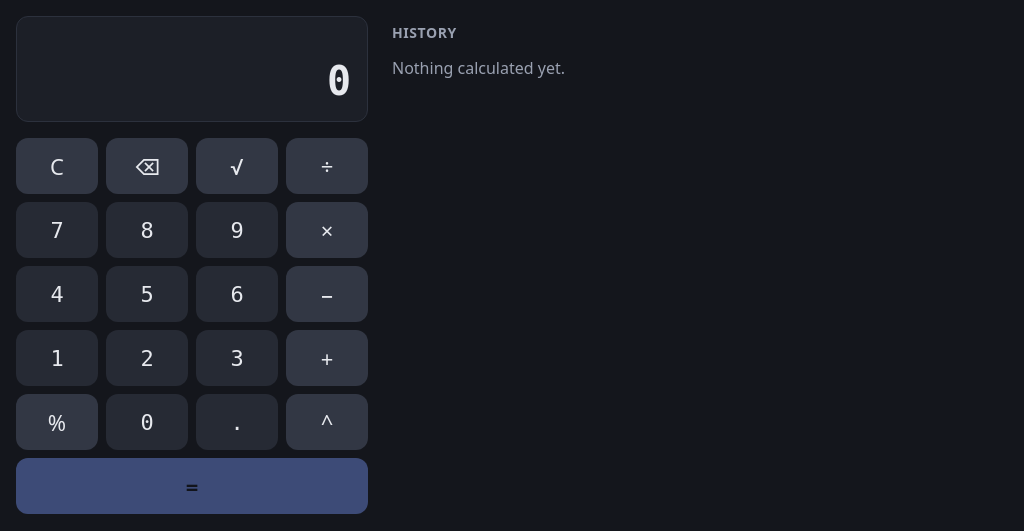
Test: Calculator › reloads the history after each calculation
The image size is (1024, 531).
Check: the text "Nothing calculated yet." is shown, box [392,57,565,79]
Click the button "2".
click(147, 358)  # box [106,330,188,386]
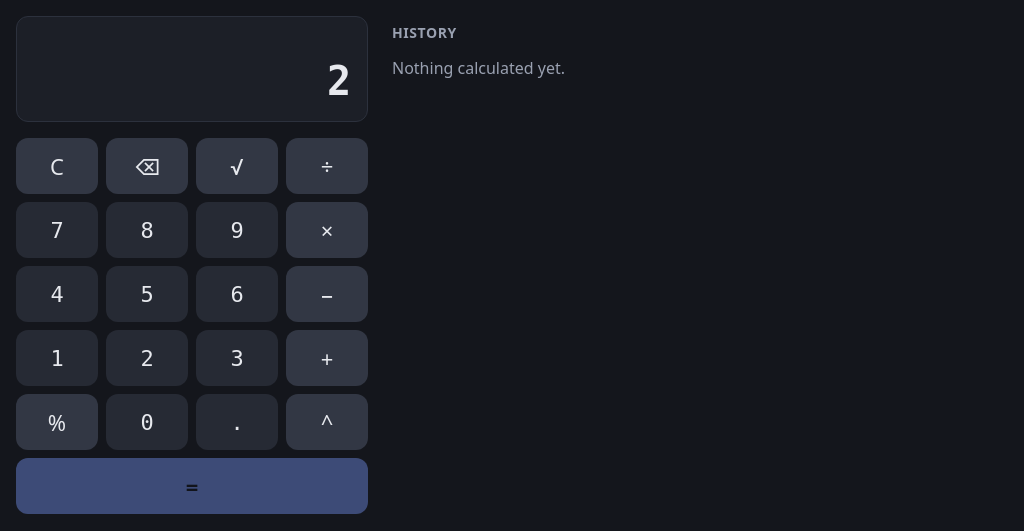
Click the button named "Add".
click(327, 358)  # box [286,330,368,386]
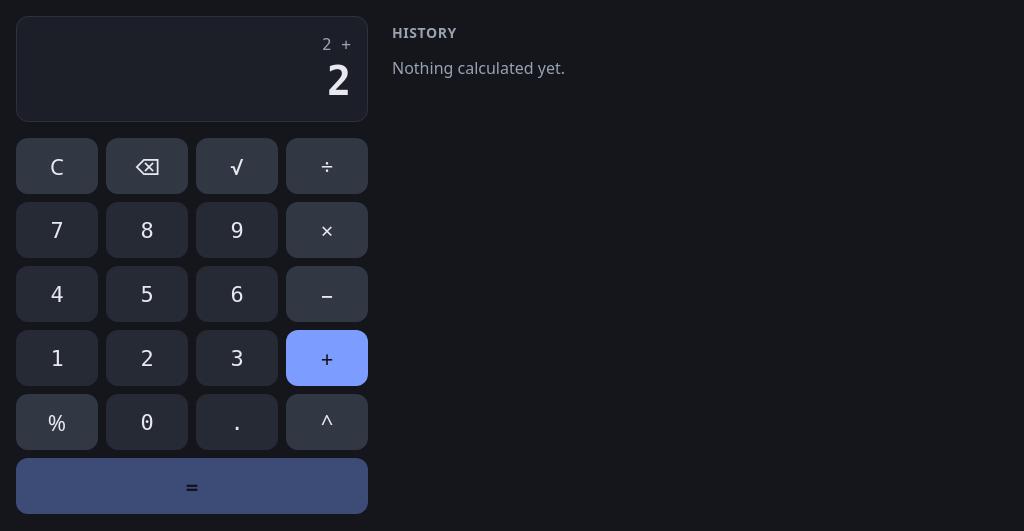
Click the button "3".
click(237, 358)  # box [196,330,278,386]
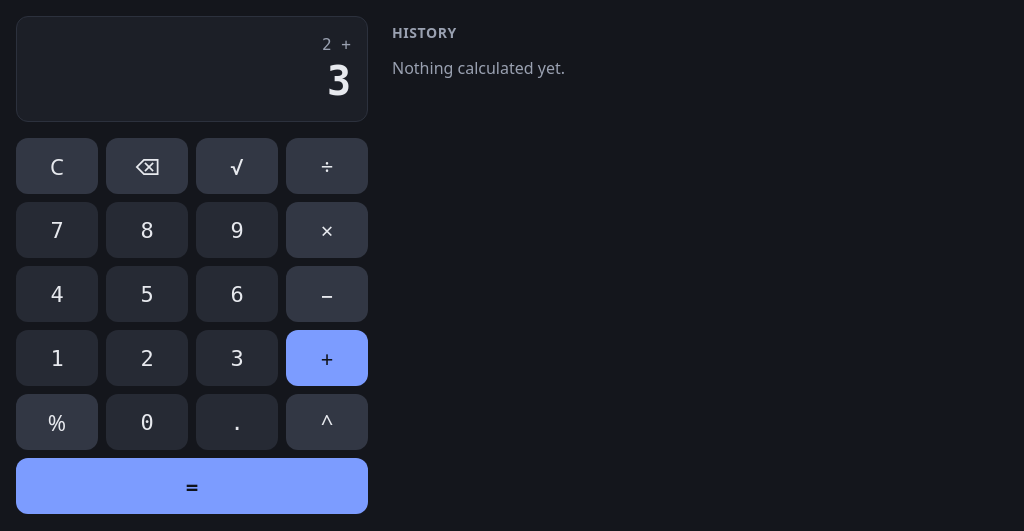
Click the button named "Equals".
click(192, 486)  # box [16,458,368,514]
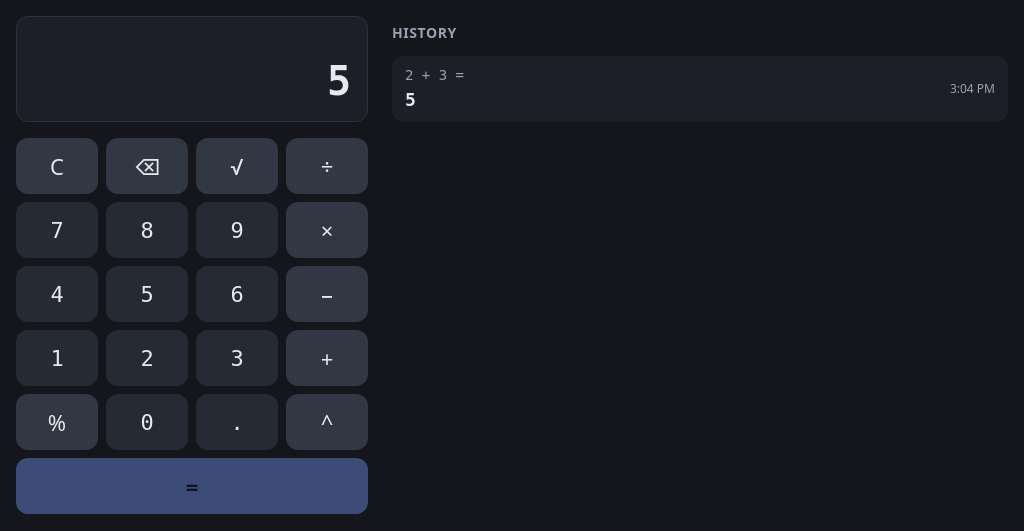
Check: the button with aria-label "Use 5, from 2 + 3" is shown, box [392,56,1008,122]
